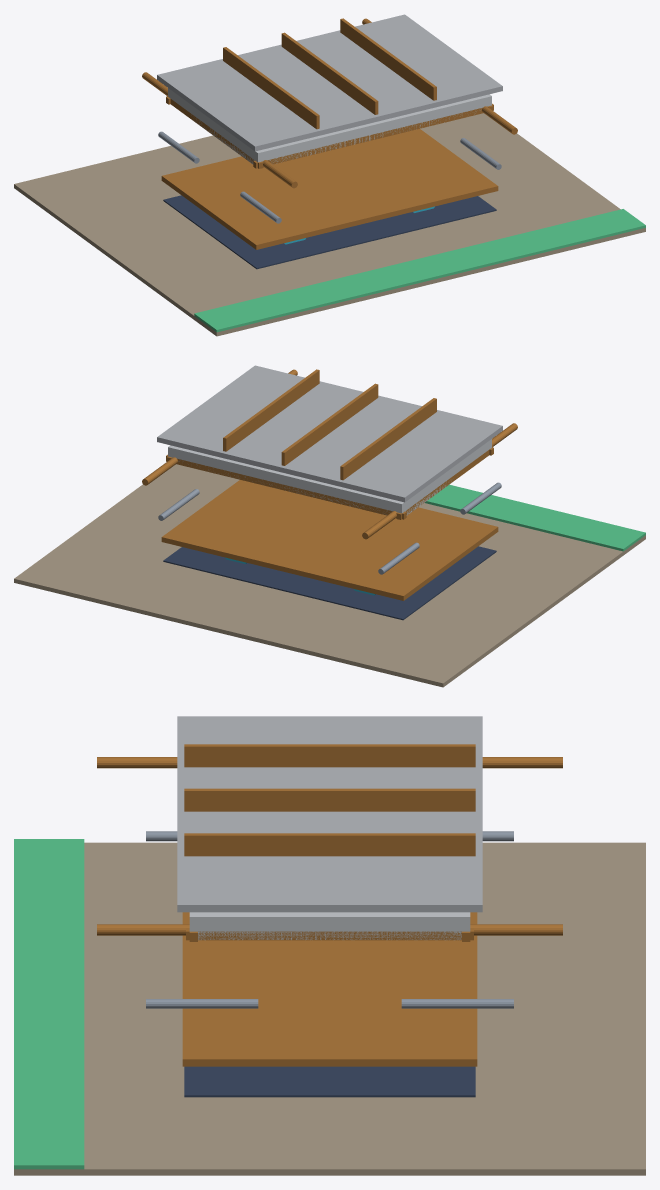
Rendered from stage_11_finishing.glb.
3 renders of one model, top to bottom at view 1: azimuth 30°, elevation 25°; view 2: azimuth 150°, elevation 25°; view 3: azimuth 270°, elevation 25°, orthographic. The views are drawn at different scales.
Parts seen in each view (by area): view 1: world; view 2: world; view 3: world.
Boxes of the visible parts, x1=… form: world: x1=14, y1=14, x2=645, y2=336; world: x1=14, y1=365, x2=645, y2=687; world: x1=14, y1=716, x2=645, y2=1175.
Bounding box in the file's own units: 11 × 3.5 × 9.
